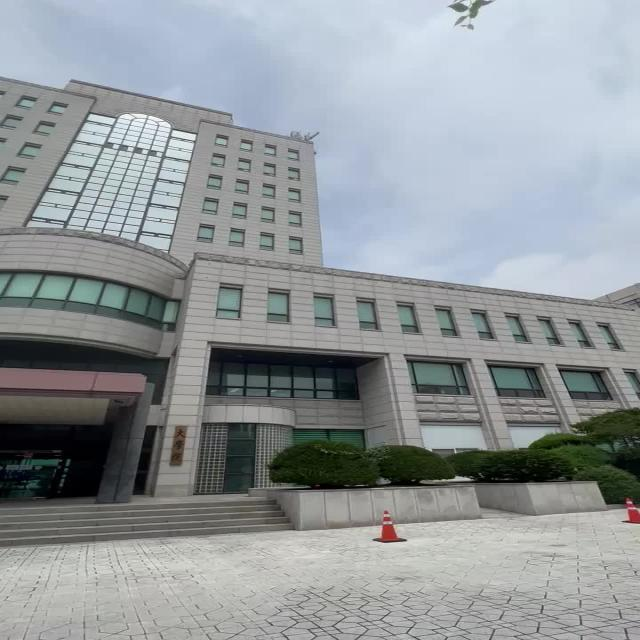building: (18, 85, 346, 405)
